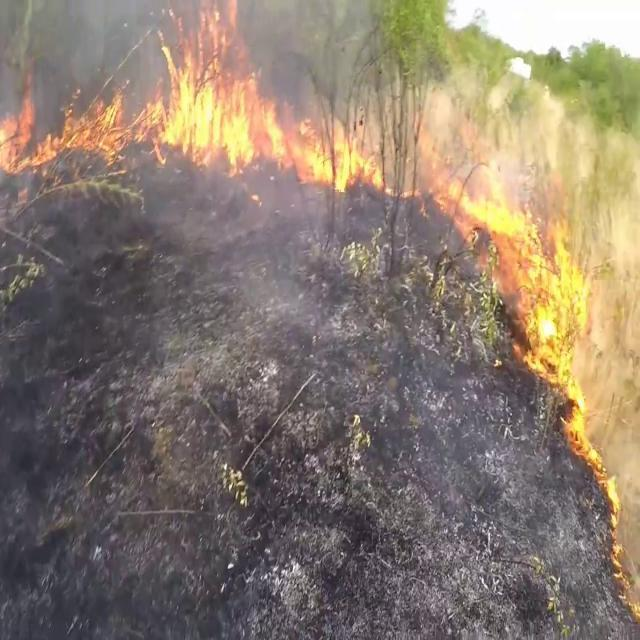Fire: (0, 2, 380, 188), (454, 148, 596, 436)
